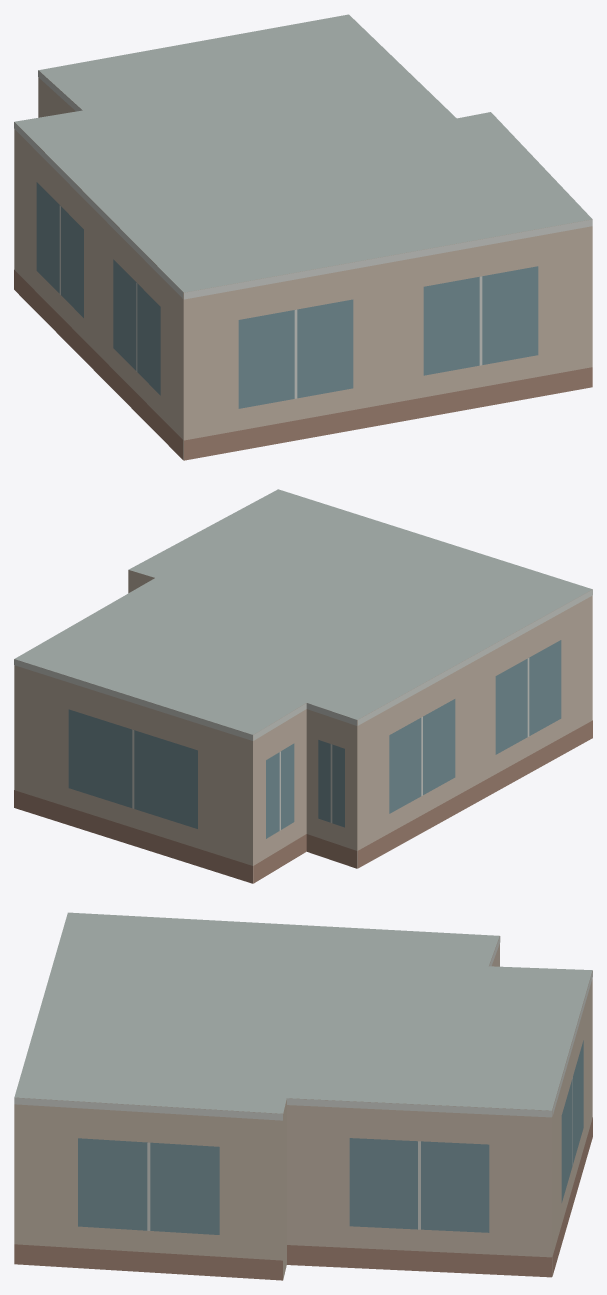
The model's file is survey-upis-32812785.glb.
3 views of the same model, one above another, from view 1: azimuth 30°, elevation 25°; view 2: azimuth 150°, elevation 25°; view 3: azimuth 270°, elevation 25° (orthographic). The views are drawn at different scales.
Parts seen in each view (by area): view 1: survey-upis-32812785.tmp; view 2: survey-upis-32812785.tmp; view 3: survey-upis-32812785.tmp.
Part boxes in pixels (x1=…): survey-upis-32812785.tmp: x1=14, y1=14, x2=592, y2=460; survey-upis-32812785.tmp: x1=14, y1=489, x2=592, y2=883; survey-upis-32812785.tmp: x1=14, y1=912, x2=592, y2=1280.
Bounding box in the file's own units: 7.91 × 3.05 × 9.61.
